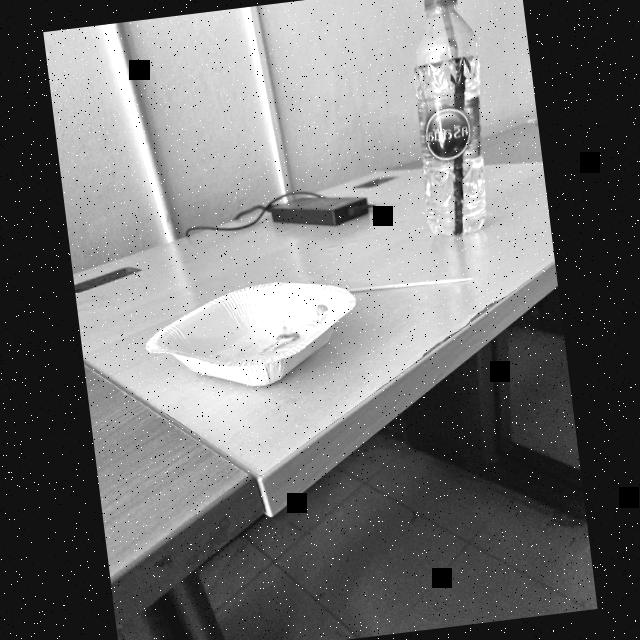cardboard_bowl: (142, 268, 368, 404)
plastic_bottle: (396, 8, 504, 242)
plastic_bottle_cap: (417, 0, 466, 11)
stick: (338, 266, 478, 306)
